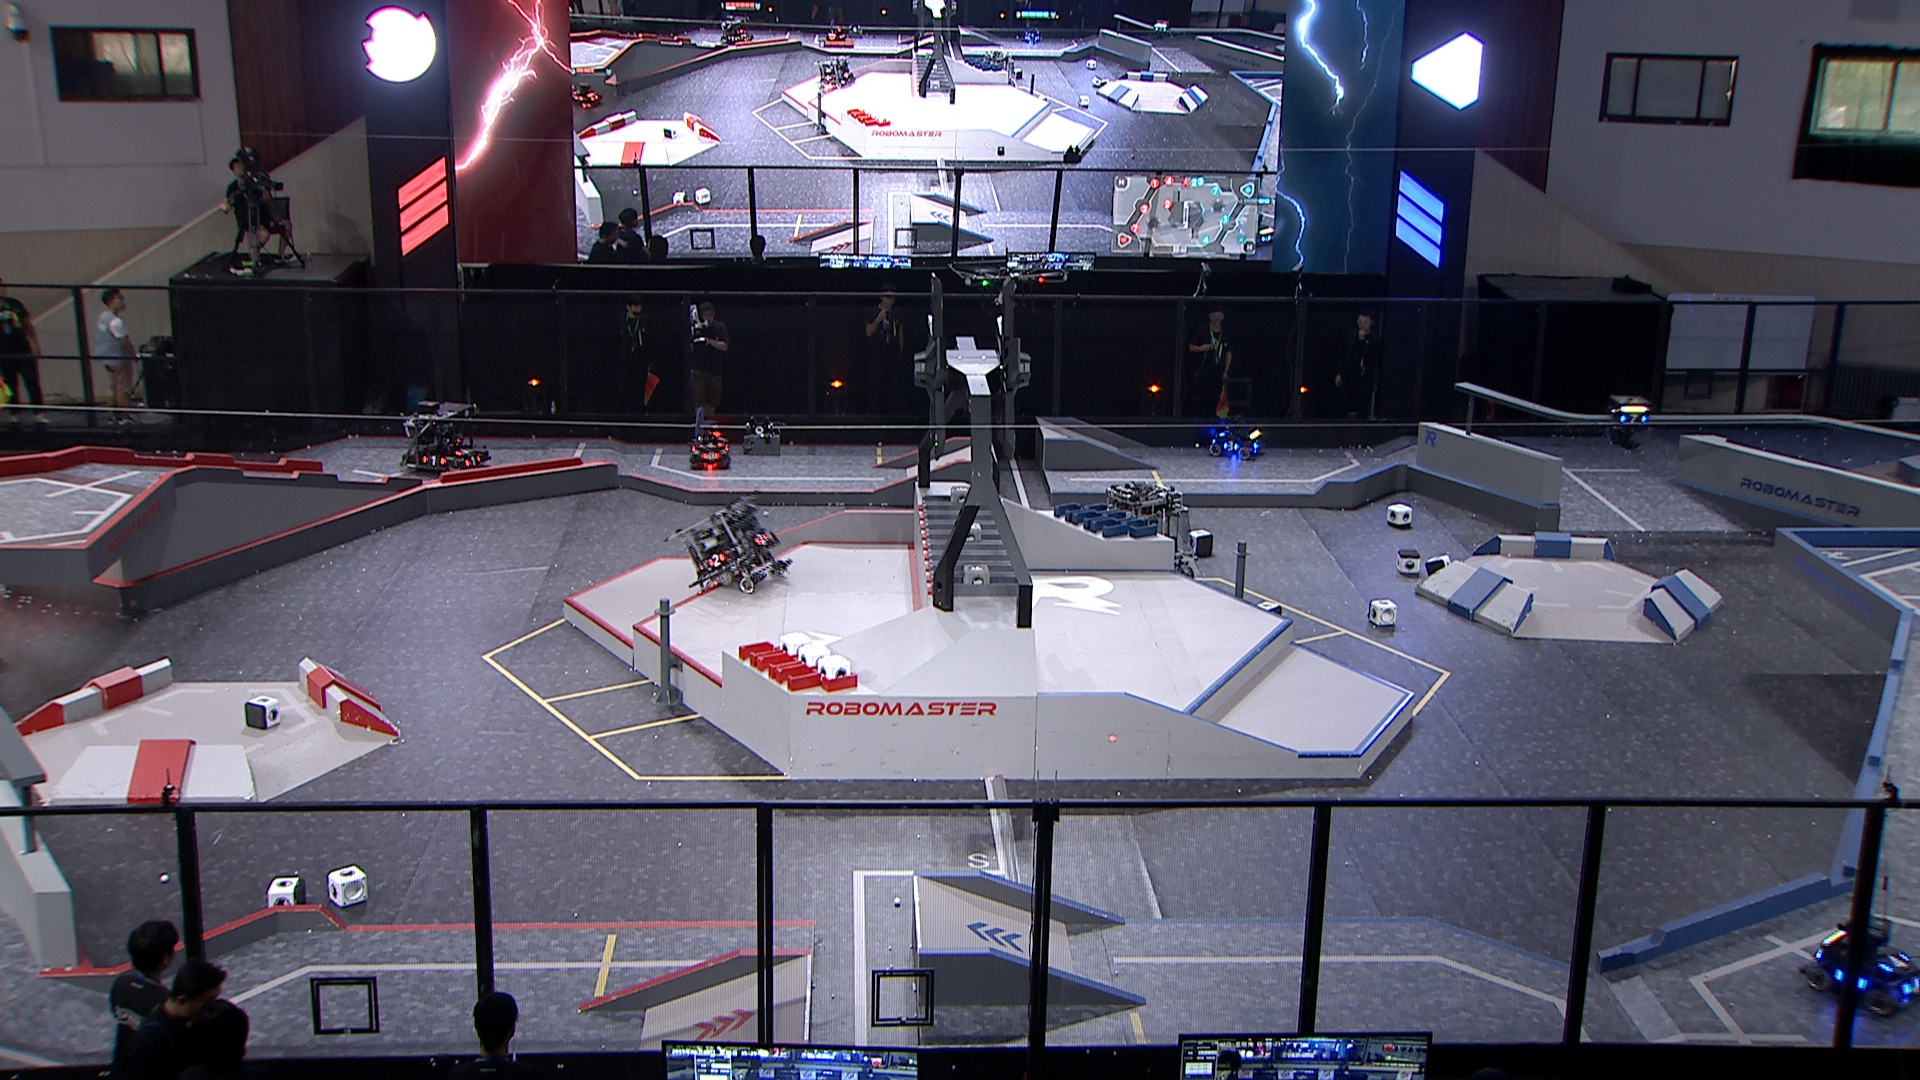armor: (1875, 949, 1912, 973), (1902, 973, 1920, 1001), (418, 451, 448, 467), (1618, 411, 1647, 427), (695, 436, 723, 451), (452, 440, 475, 458), (462, 451, 485, 467), (1218, 436, 1242, 452), (705, 551, 724, 570), (750, 531, 771, 547), (700, 448, 719, 463)
car: (662, 498, 793, 595), (1807, 911, 1920, 1015), (1101, 476, 1197, 583), (396, 398, 491, 473), (1207, 413, 1266, 458), (686, 419, 732, 472)
ignore: (719, 15, 760, 49), (986, 46, 1021, 87), (818, 57, 855, 90), (568, 80, 603, 111), (1257, 214, 1275, 248), (1021, 21, 1044, 45), (825, 24, 847, 44)
watcher: (1604, 394, 1652, 452)
